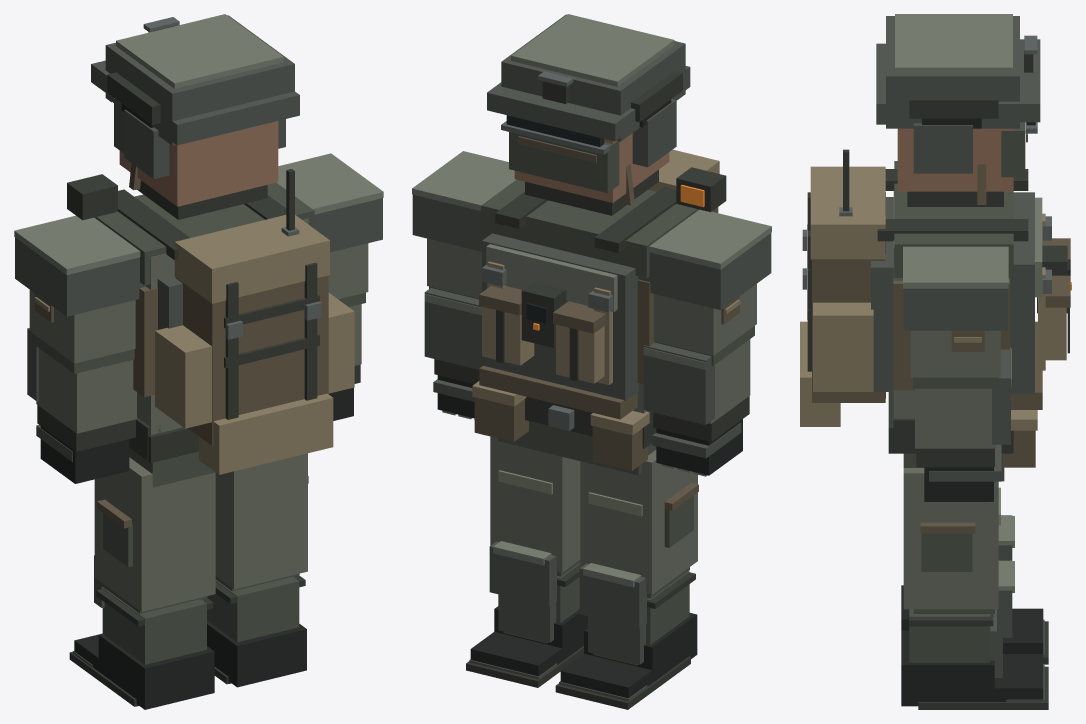
File: grunt.glb
3 views of the same model, side by side, from view 1: azimuth 30°, elevation 25°; view 2: azimuth 150°, elevation 25°; view 3: azimuth 270°, elevation 25° (orthographic). The views are drawn at different scales.
Visible parts, largest first — view 1: Merged_material (×19), Trouser L, Trouser R, Head base, Helmet crown, Glove palm L, Wrist cuff L, Torso fatigues, Elbow fabric L, Glove palm R; view 2: Merged_material (×25), Trouser L, Trouser R, Helmet crown, Carrier top chest panel, Face covering, Head base, Glove palm L, Wrist cuff L, Front visor, Glove palm R, Knee shell top L (+4 smaller); view 3: Merged_material (×18), Trouser R, Helmet crown, Head base, Glove palm R, Wrist cuff R, Face covering, Elbow fabric R, Carrier top chest panel, Torso fatigues, Arm patch R, Knee shell top R (+1 smaller).
Part boxes in pixels (bbox=[...]): Merged_material (×19): bbox=[14, 15, 383, 709]; Trouser L: bbox=[94, 457, 215, 611]; Trouser R: bbox=[215, 453, 307, 589]; Head base: bbox=[119, 121, 278, 206]; Helmet crown: bbox=[116, 14, 283, 88]; Glove palm L: bbox=[40, 426, 129, 483]; Wrist cuff L: bbox=[37, 405, 135, 451]; Torso fatigues: bbox=[137, 218, 308, 434]; Elbow fabric L: bbox=[32, 333, 134, 373]; Glove palm R: bbox=[329, 387, 353, 420]; Merged_material (×25): bbox=[412, 14, 771, 709]; Trouser L: bbox=[580, 450, 697, 594]; Trouser R: bbox=[490, 436, 580, 572]; Helmet crown: bbox=[511, 14, 674, 86]; Carrier top chest panel: bbox=[486, 244, 617, 311]; Face covering: bbox=[509, 132, 619, 193]; Head base: bbox=[514, 133, 669, 202]; Glove palm L: bbox=[656, 419, 742, 475]; Wrist cuff L: bbox=[653, 396, 749, 441]; Front visor: bbox=[506, 115, 604, 146]; Glove palm R: bbox=[437, 375, 474, 418]; Knee shell top L: bbox=[583, 563, 641, 587]; Merged_material (×18): bbox=[800, 16, 1070, 709]; Trouser R: bbox=[903, 468, 998, 609]; Helmet crown: bbox=[895, 14, 1012, 72]; Head base: bbox=[897, 128, 1013, 191]; Glove palm R: bbox=[924, 467, 993, 501]; Wrist cuff R: bbox=[916, 448, 994, 467]; Face covering: bbox=[1001, 122, 1025, 177]; Elbow fabric R: bbox=[913, 377, 998, 388]; Carrier top chest panel: bbox=[1035, 197, 1042, 297]; Torso fatigues: bbox=[893, 190, 914, 418]; Arm patch R: bbox=[951, 330, 984, 351]; Knee shell top R: bbox=[998, 561, 1014, 592].
Size of the model in its own units: 1.04 by 1.97 by 0.771.
